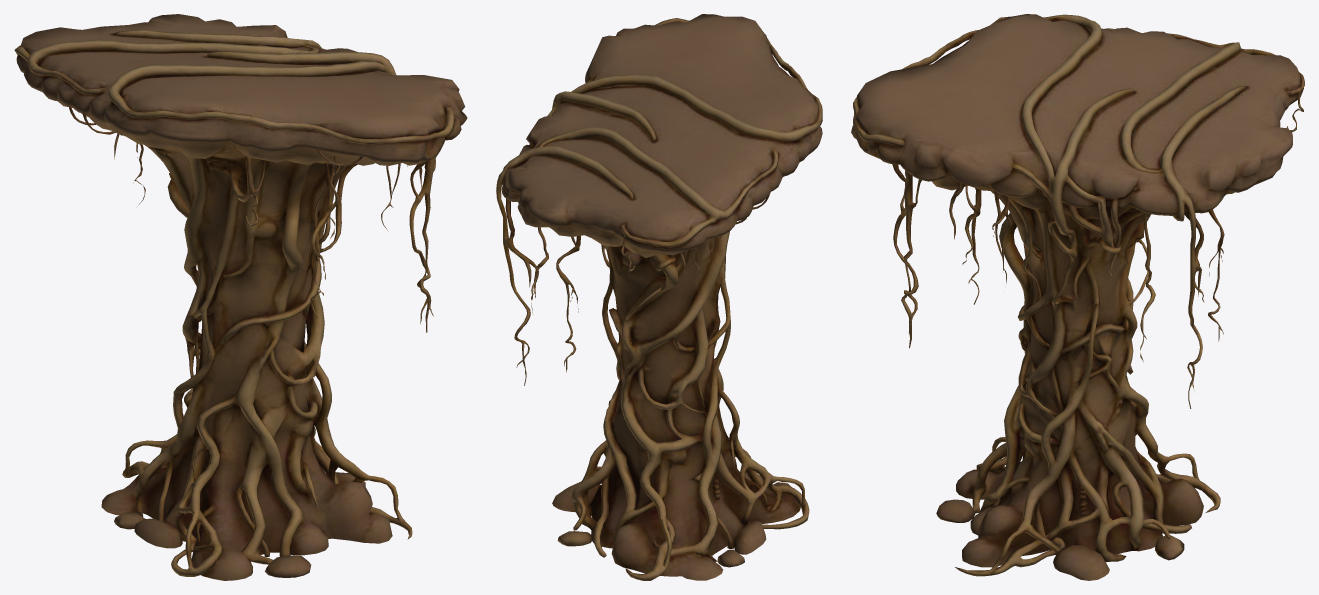
File: jun_hanging_root_curtain_LOD0.glb
3 renders of one model, left to right at view 1: azimuth 30°, elevation 25°; view 2: azimuth 150°, elevation 25°; view 3: azimuth 270°, elevation 25°, orthographic. The views are drawn at different scales.
Visible parts, largest first — view 1: tripo_node_cadc6c69-84e1-40cb-8351-e614b4902560; view 2: tripo_node_cadc6c69-84e1-40cb-8351-e614b4902560; view 3: tripo_node_cadc6c69-84e1-40cb-8351-e614b4902560.
Part boxes in pixels (<box>): tripo_node_cadc6c69-84e1-40cb-8351-e614b4902560: <box>14,14,467,580</box>; tripo_node_cadc6c69-84e1-40cb-8351-e614b4902560: <box>496,14,822,580</box>; tripo_node_cadc6c69-84e1-40cb-8351-e614b4902560: <box>851,14,1304,580</box>.
Size of the model in its own units: 0.6426 by 0.998 by 0.9043.
Materials: 1 (1 with a texture image).
